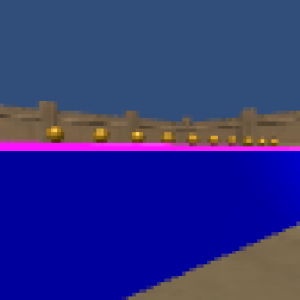goodGoalMulti: (46, 124, 66, 144), (91, 127, 112, 143), (185, 132, 200, 147), (160, 130, 176, 143), (131, 130, 144, 142), (227, 135, 238, 147), (242, 135, 254, 146), (208, 135, 219, 146), (257, 136, 267, 146), (271, 139, 279, 147)
platform: (1, 153, 299, 251)
ramp: (1, 142, 176, 152)
